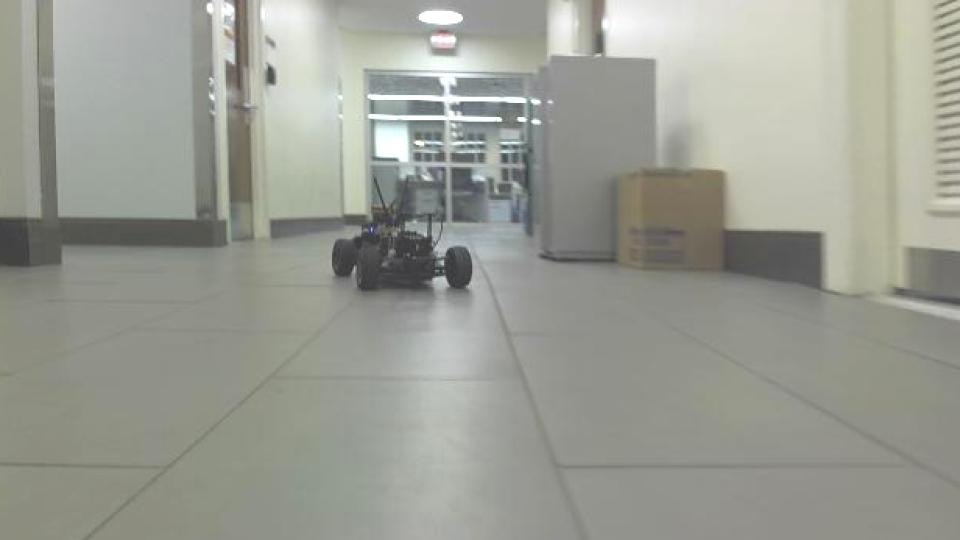car: (328, 172, 476, 295)
